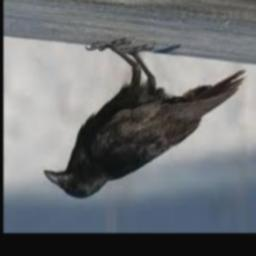Crow: (44, 39, 249, 199)
